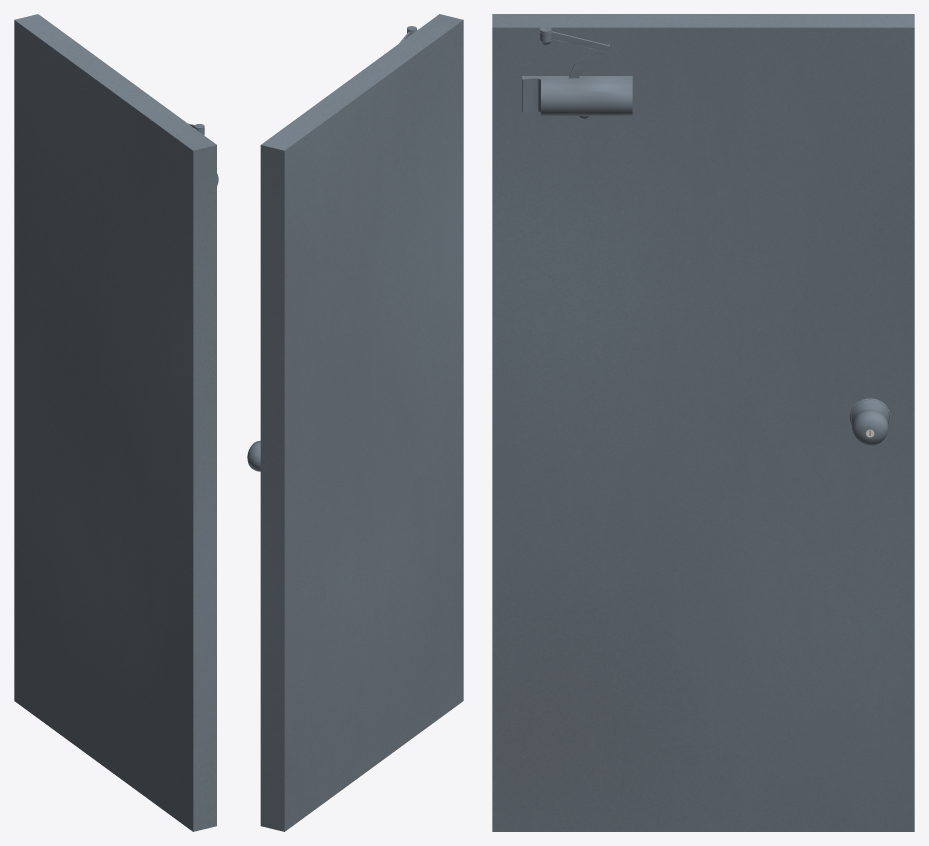
The model's file is 비상구 문.fbx.
3 renders of one model, left to right at view 1: azimuth 30°, elevation 25°; view 2: azimuth 150°, elevation 25°; view 3: azimuth 270°, elevation 25°, orthographic. The views are drawn at different scales.
Visible parts, largest first — view 1: 비상구문; view 2: 비상구문; view 3: 비상구문.
Boxes of the visible parts, x1=… form: 비상구문: x1=14, y1=14, x2=218, y2=831; 비상구문: x1=247, y1=14, x2=463, y2=831; 비상구문: x1=492, y1=14, x2=914, y2=831.
Bounding box in the file's own units: 27.53 × 340 × 162.
